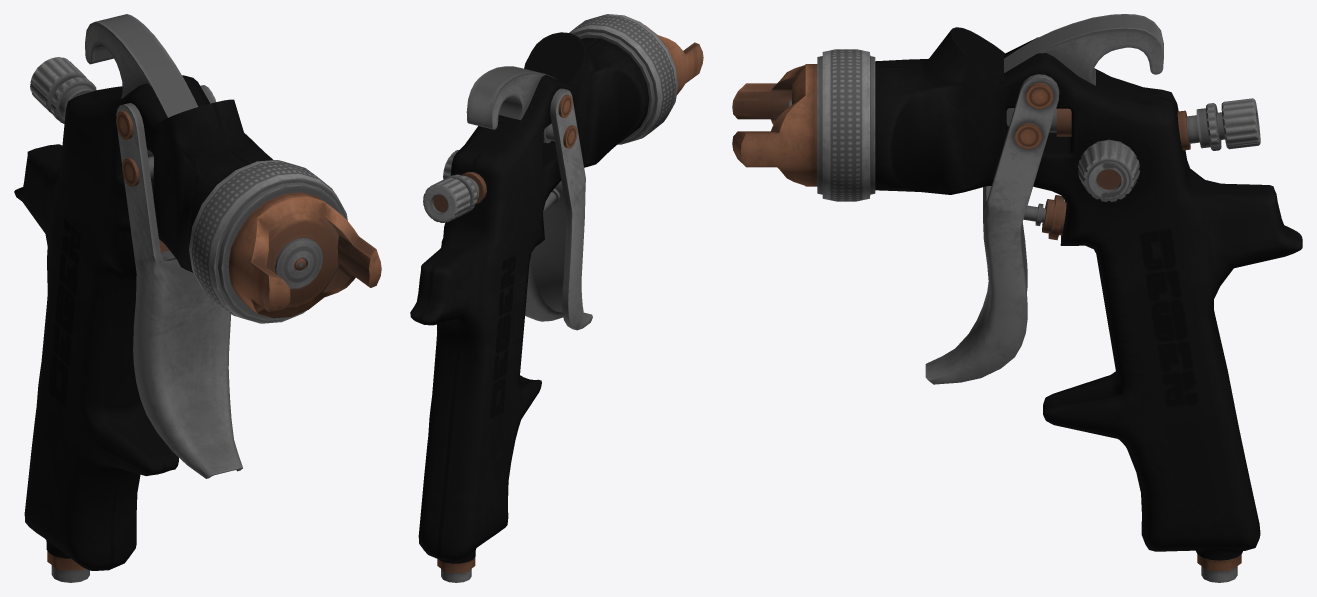
File: Spray paint hose.fbx
3 views of the same model, side by side, from view 1: azimuth 30°, elevation 25°; view 2: azimuth 150°, elevation 25°; view 3: azimuth 270°, elevation 25° (orthographic). The views are drawn at different scales.
Parts seen in each view (by area): view 1: Paint Spray Gun_Paint Spray Gun_0.001; view 2: Paint Spray Gun_Paint Spray Gun_0.001; view 3: Paint Spray Gun_Paint Spray Gun_0.001.
Boxes of the visible parts, x1,y1,x2,y2 form: Paint Spray Gun_Paint Spray Gun_0.001: [14, 14, 381, 582]; Paint Spray Gun_Paint Spray Gun_0.001: [410, 14, 703, 582]; Paint Spray Gun_Paint Spray Gun_0.001: [732, 14, 1302, 582].
Bounding box in the file's own units: 390 × 1553 × 1449.
Materials: 1 (1 with a texture image).
